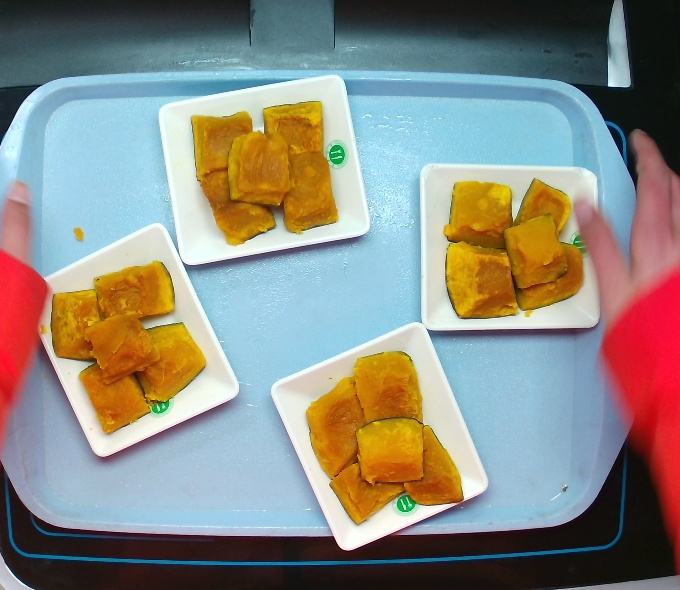wcq-RiBenNanGua: (301, 343, 470, 523), (49, 255, 203, 429), (439, 166, 589, 335), (196, 103, 342, 243)
